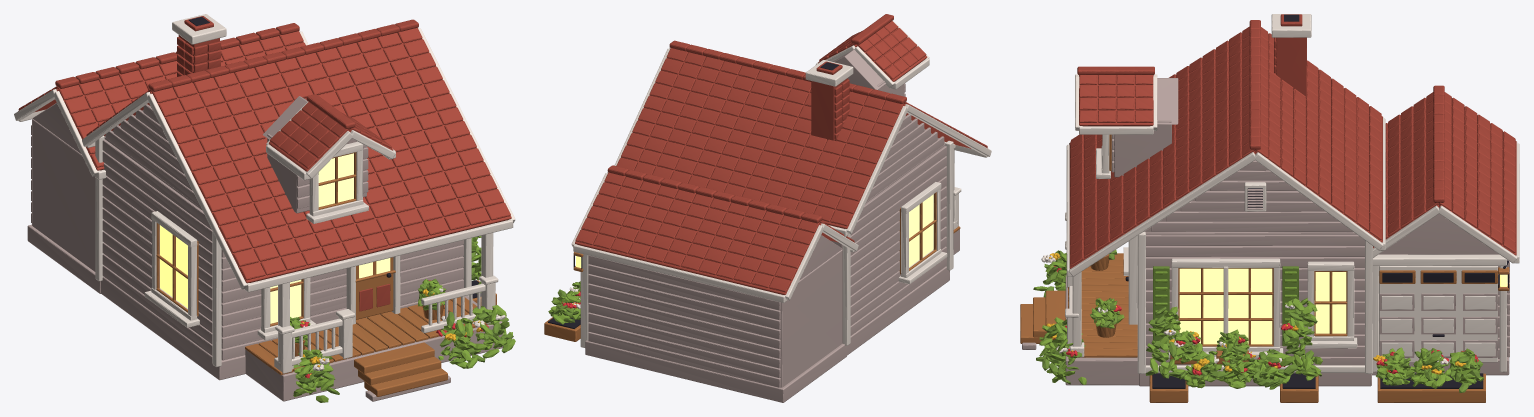
The picture shows the model from 3 angles, left to right: view 1: azimuth 30°, elevation 25°; view 2: azimuth 150°, elevation 25°; view 3: azimuth 270°, elevation 25°; orthographic projection. The views are drawn at different scales.
Parts seen in each view (by area): view 1: roof_pal_brick, body_pal_sidewalk, body_pal_picketWhite, roof_pal_picketWhite, body_pal_woodWarm, body_pal_foliage, dormer_roof_pal_brick, body_emi_windowGlow, roof_pal_sidewalk, body_pal_grass, dormer_roof_pal_picketWhite, roof_emi_windowGlow (+3 smaller); view 2: roof_pal_brick, body_pal_sidewalk, roof_pal_picketWhite, body_pal_picketWhite, dormer_roof_pal_brick, body_emi_windowGlow, body_pal_woodWarm, roof_pal_sidewalk, dormer_roof_pal_picketWhite, body_pal_foliage, body_pal_grass; view 3: roof_pal_brick, body_pal_sidewalk, body_pal_picketWhite, body_pal_woodWarm, body_pal_foliage, door_garage_pal_picketWhite, roof_pal_picketWhite, body_emi_windowGlow, body_pal_grass, dormer_roof_pal_brick, roof_pal_sidewalk, door_garage_pal_sidewalk (+6 smaller).
Part boxes in pixels (x1,y1,x2,y2): roof_pal_brick: (18,16,511,283); body_pal_sidewalk: (27,102,503,401); body_pal_picketWhite: (95,135,505,373); roof_pal_picketWhite: (14,14,515,292); body_pal_woodWarm: (156,223,496,396); body_pal_foliage: (290,237,515,402); dormer_roof_pal_brick: (269,94,392,171); body_emi_windowGlow: (160,225,301,323); roof_pal_sidewalk: (262,96,368,213); body_pal_grass: (290,236,513,394); dormer_roof_pal_picketWhite: (266,102,395,180); roof_emi_windowGlow: (318,153,353,206); roof_pal_brick: (575,40,987,294); body_pal_sidewalk: (585,114,959,402); roof_pal_picketWhite: (571,47,991,302); body_pal_picketWhite: (569,140,961,347); dormer_roof_pal_brick: (818,14,927,81); body_emi_windowGlow: (909,194,933,266); body_pal_woodWarm: (544,192,960,341); roof_pal_sidewalk: (832,49,905,96); dormer_roof_pal_picketWhite: (816,20,929,89); body_pal_foliage: (548,281,580,324); body_pal_grass: (550,282,580,322); roof_pal_brick: (1069,14,1516,268); body_pal_sidewalk: (1022,160,1509,386); body_pal_picketWhite: (1041,182,1506,373); body_pal_woodWarm: (1020,253,1485,402); body_pal_foliage: (1033,250,1483,389); door_garage_pal_picketWhite: (1379,266,1497,362); roof_pal_picketWhite: (1066,14,1519,276); body_emi_windowGlow: (1179,268,1346,344); body_pal_grass: (1042,250,1482,392); dormer_roof_pal_brick: (1077,66,1154,126); roof_pal_sidewalk: (1111,78,1178,177); door_garage_pal_sidewalk: (1379,293,1497,357).
Bounding box in the file's own units: 7.52 × 6.8 × 11.03.
